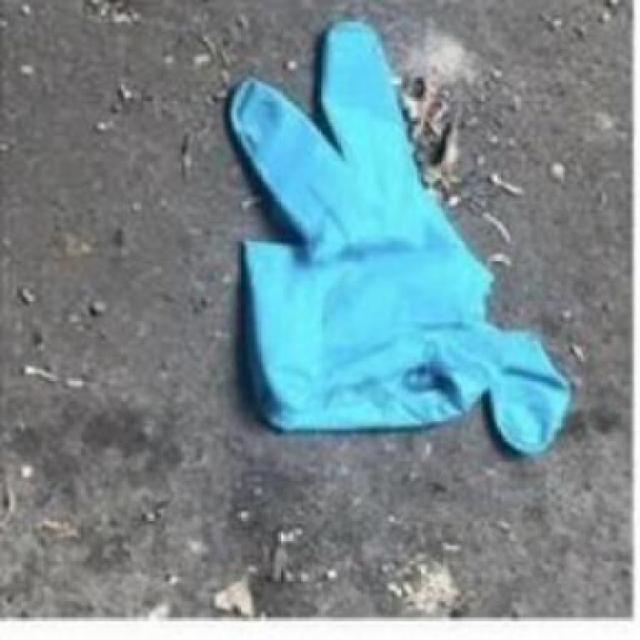glove_hand: (223, 12, 574, 486)
